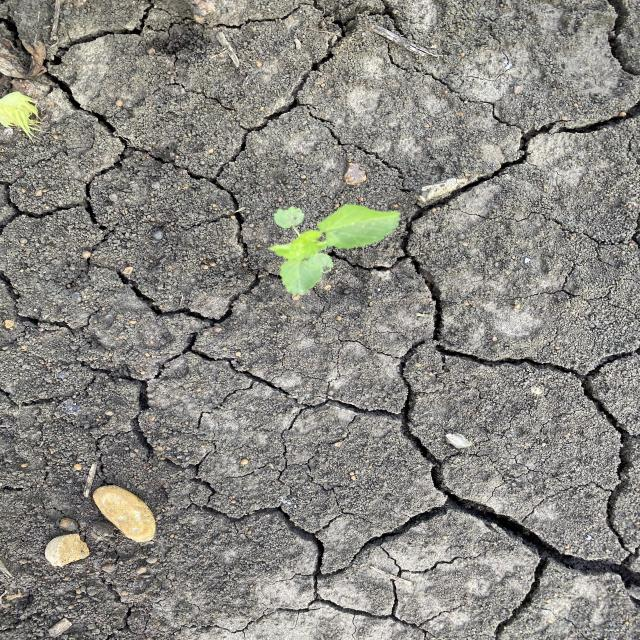PricklySida: (267, 203, 405, 298)
